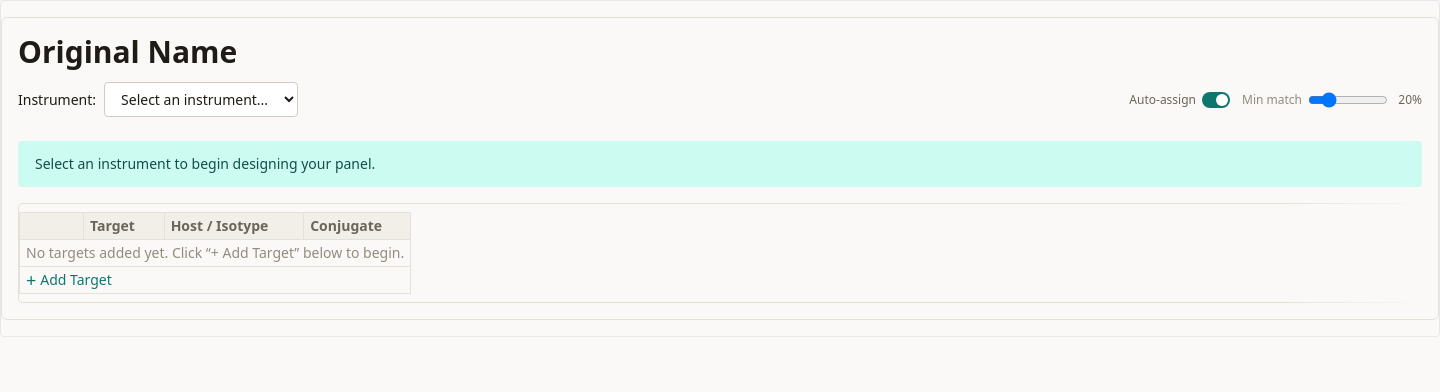
Test case: FlowPanelView › Test 3 — action propagates to attrs: editing name updates editor JSON
Note: Click to enter edit mode
Click the heading "Original Name": (128, 52) [18,34,237,70]
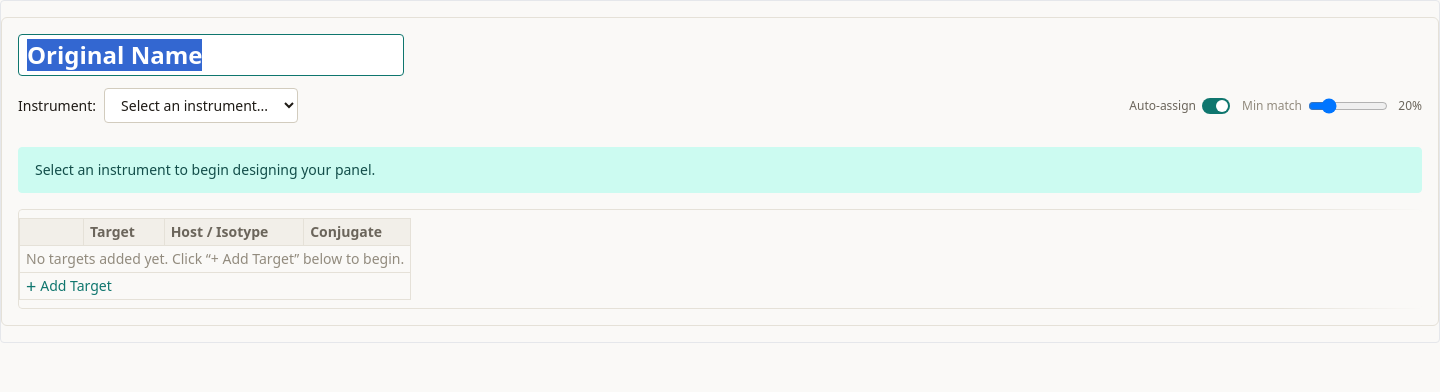
Check: the field showing "Original Name" is shown
Note: Type a new name
Replace the text in the field showing "Original Name" with "Updated Name": (211, 55) [18,34,404,76]
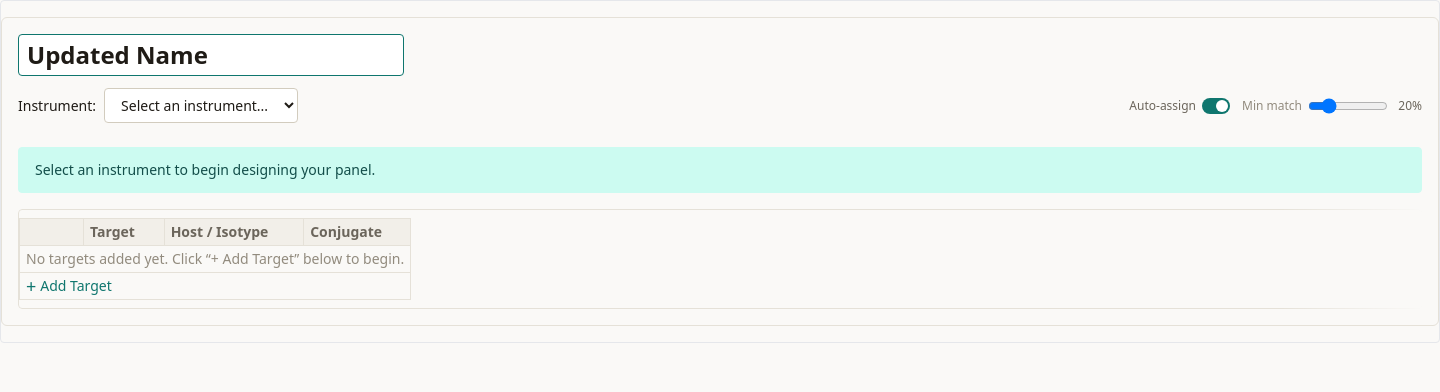
Note: Blur to commit (triggers onSaveName)
Leave the field showing "Original Name", box [18,34,404,76]
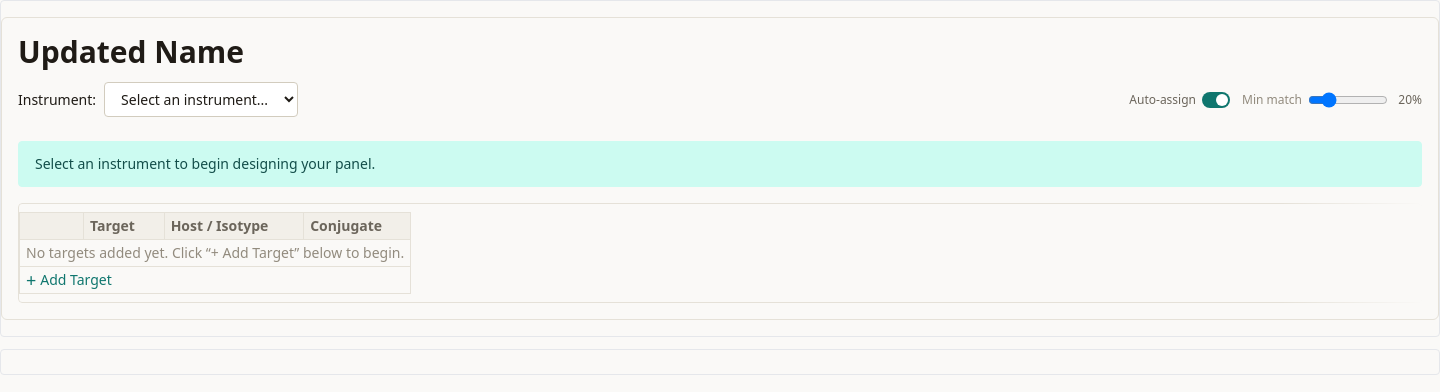
Check: the heading "Updated Name" is shown, box [18,34,244,70]
